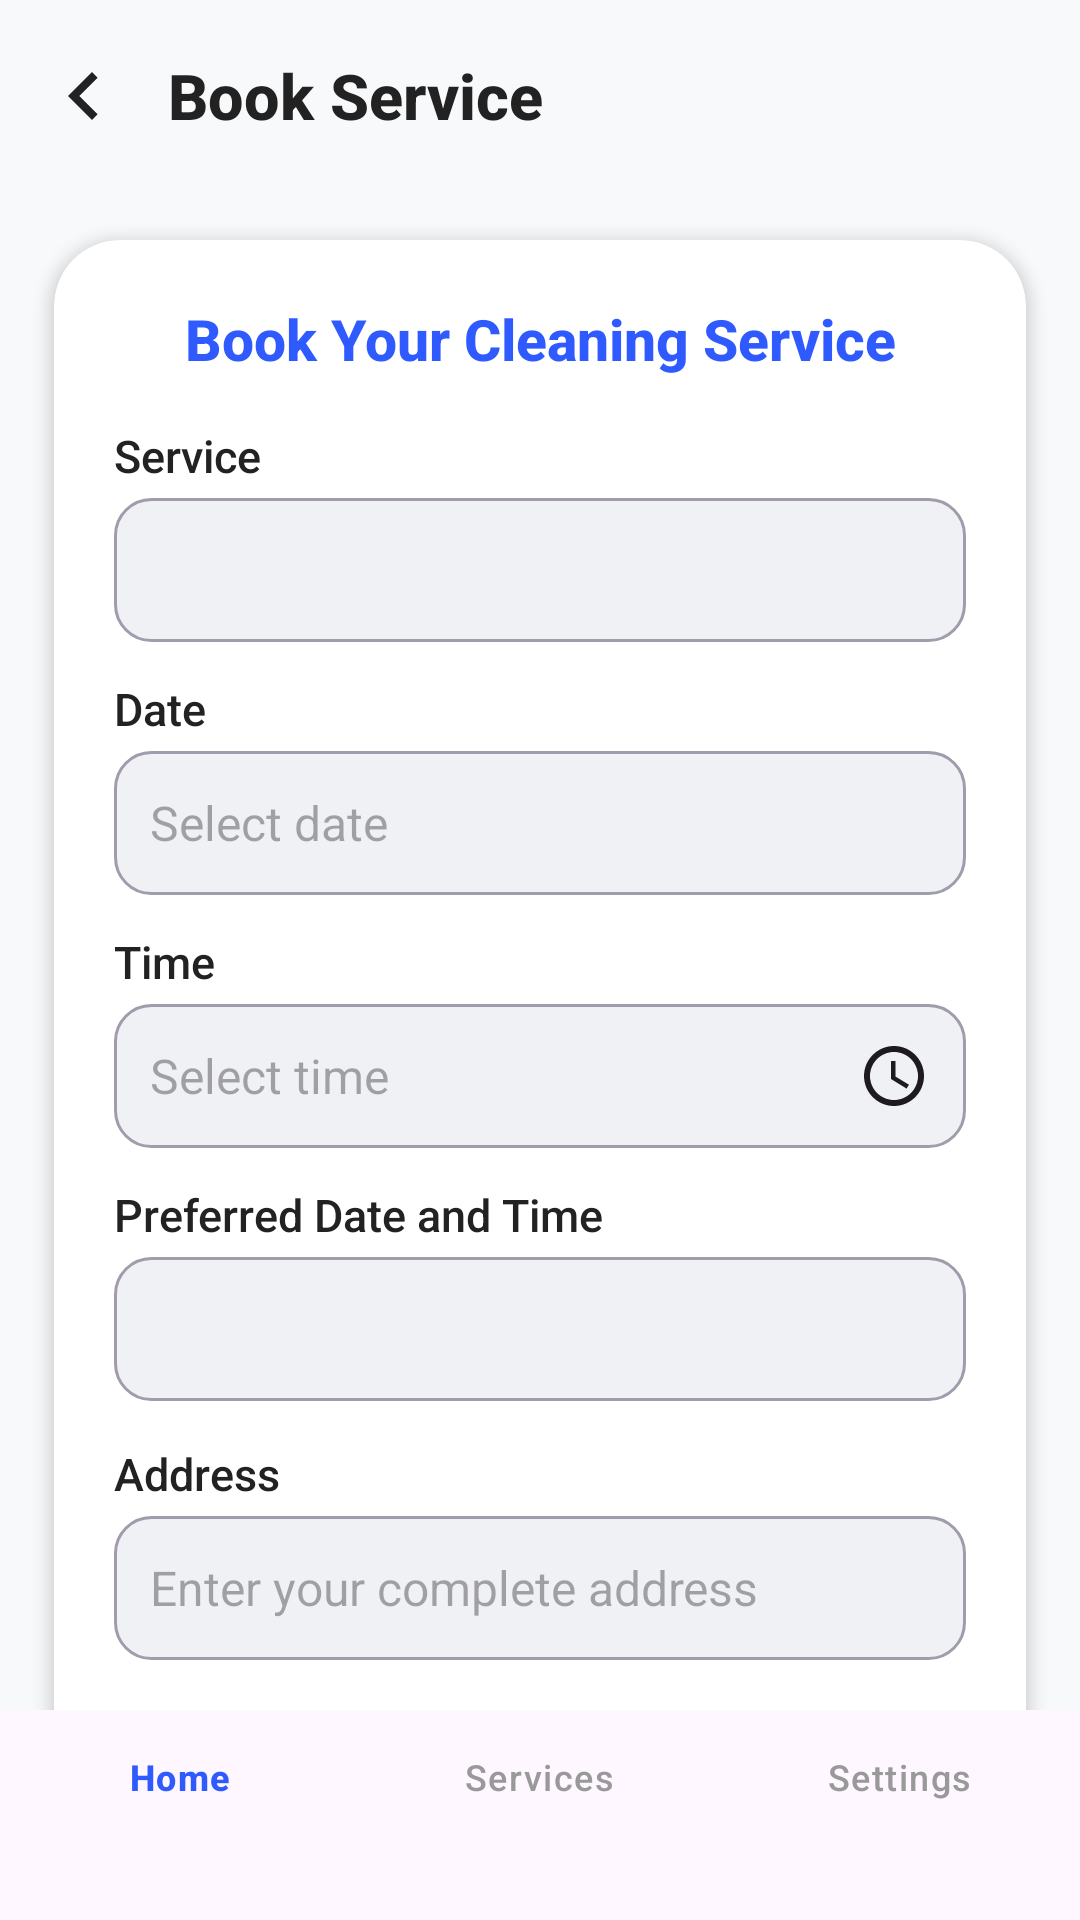

Point at icon controls on the screen. Image size 1080x1920, points as (x=x, y=y).
Back: (x=83, y=96)
